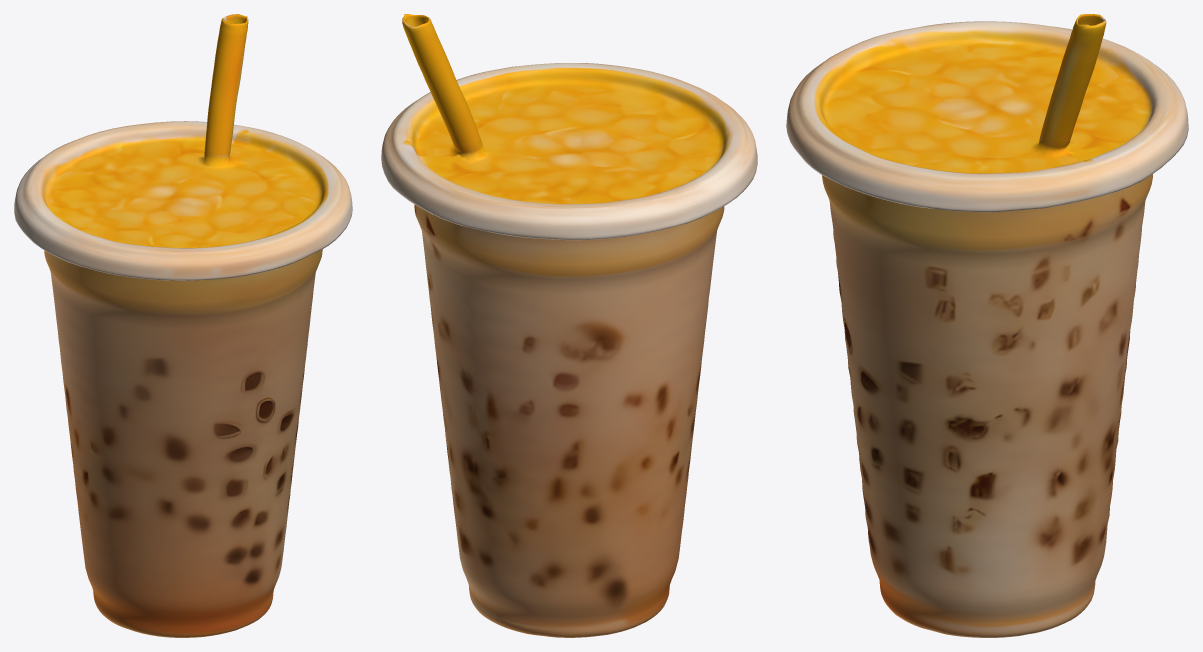
Rendered from bubble-tea.fbx.
3 views of the same model, side by side, from view 1: azimuth 30°, elevation 25°; view 2: azimuth 150°, elevation 25°; view 3: azimuth 270°, elevation 25° (orthographic). The views are drawn at different scales.
Parts seen in each view (by area): view 1: model__0; view 2: model__0; view 3: model__0.
Boxes of the visible parts, x1,y1,x2,y2 form: model__0: (14,14,352,637); model__0: (381,14,757,637); model__0: (786,14,1188,637).
Size of the model in its own units: 110 by 189 by 109.
Materials: 1 (1 with a texture image).
